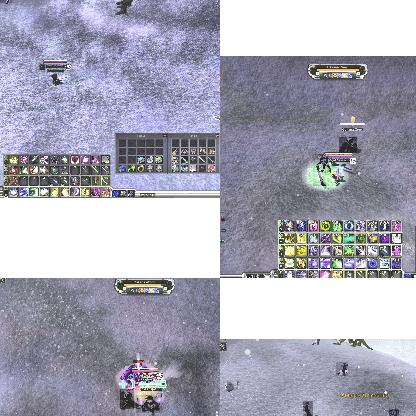caliana: (313, 154, 329, 186), (136, 395, 162, 413), (339, 137, 357, 153), (120, 389, 134, 409), (336, 362, 348, 376), (303, 401, 312, 416), (389, 408, 399, 416)
